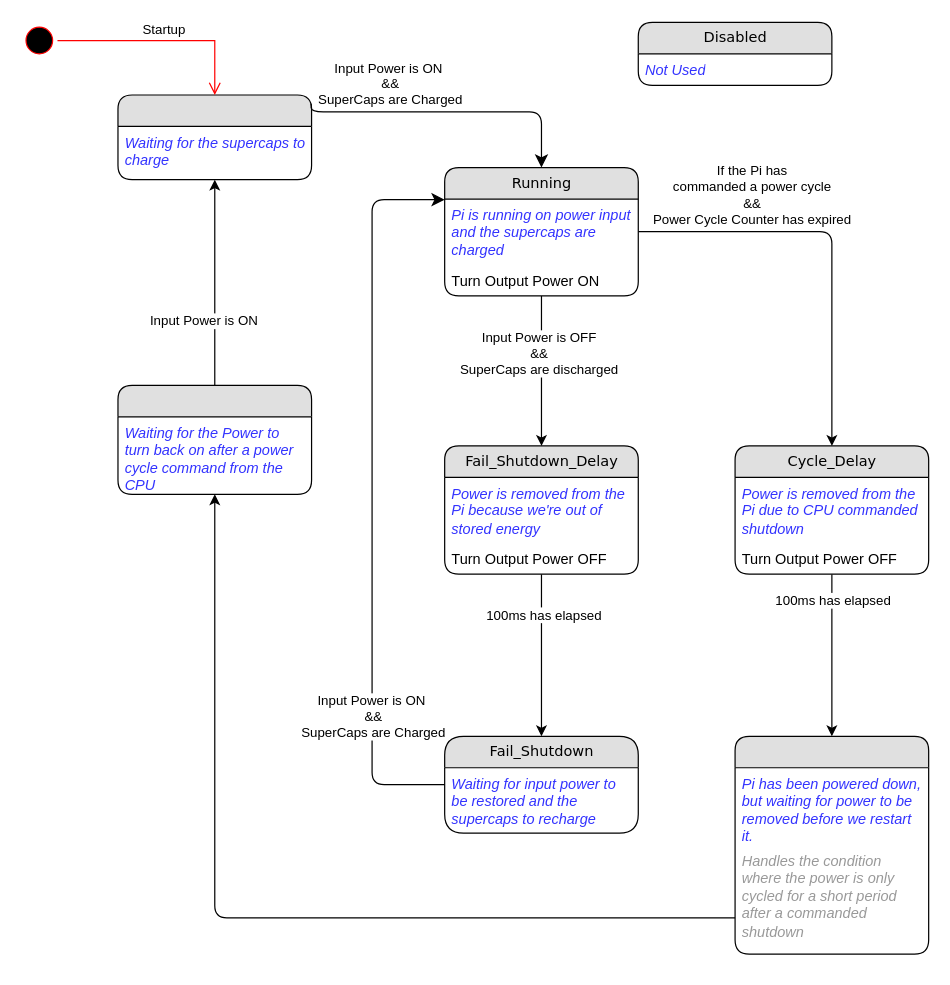
The diagram is 950 pixels wide and 985 high, and some of its shapes have lost their labels. Each missing label, with the box of its shape:
Powerup: (117, 94, 312, 180)
Wait_Off: (734, 735, 929, 954)
Wait_On: (117, 384, 312, 494)
